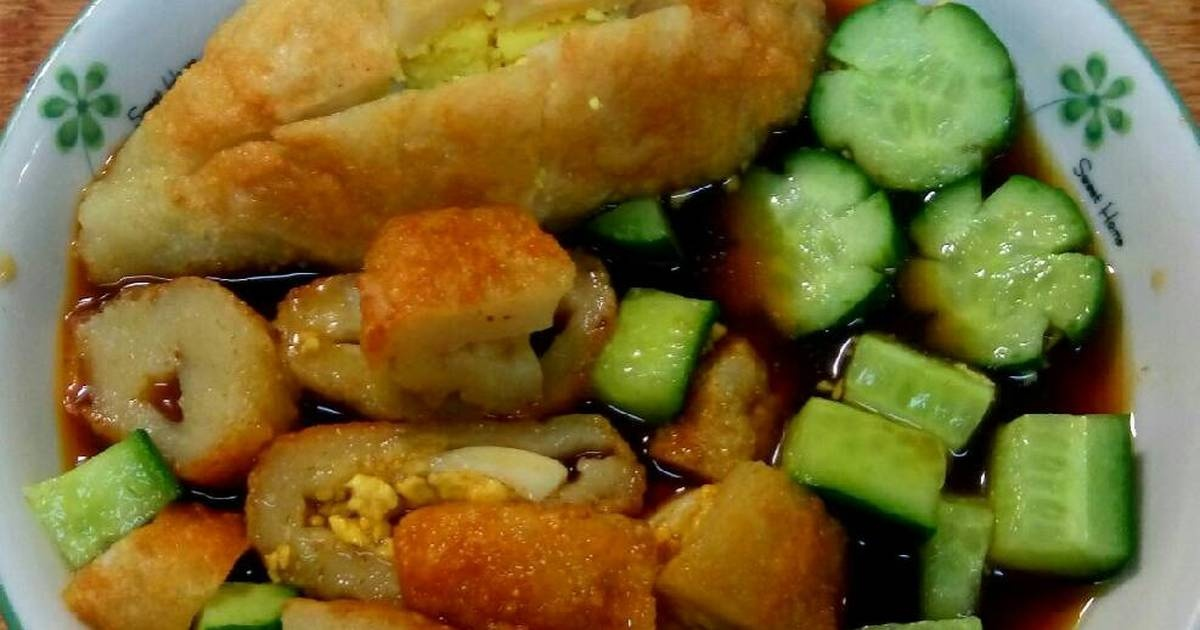pempek: (92, 1, 790, 630)
